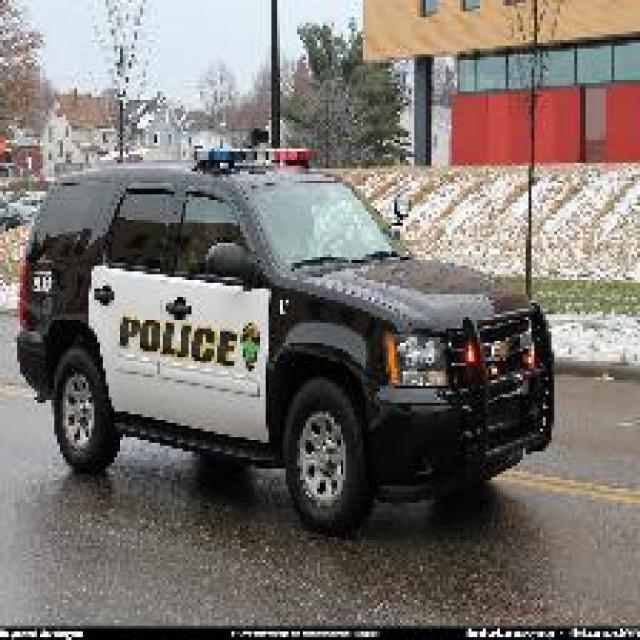Police-car: (12, 143, 557, 534)
